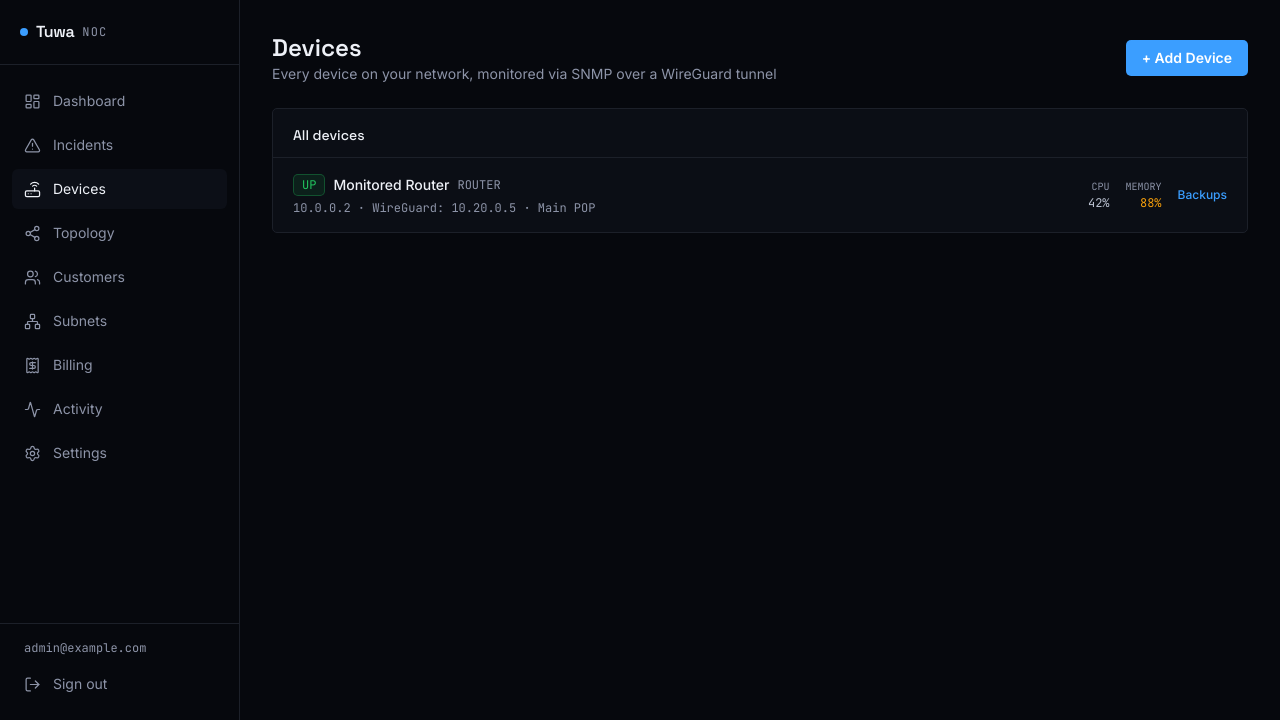
Test case: Devices › shows the real full content when a backup is viewed
The image size is (1280, 720).
Check: the text "Monitored Router" is shown, box [333, 175, 449, 195]
Click the button "Backups": [1202, 195] box [1178, 187, 1227, 203]
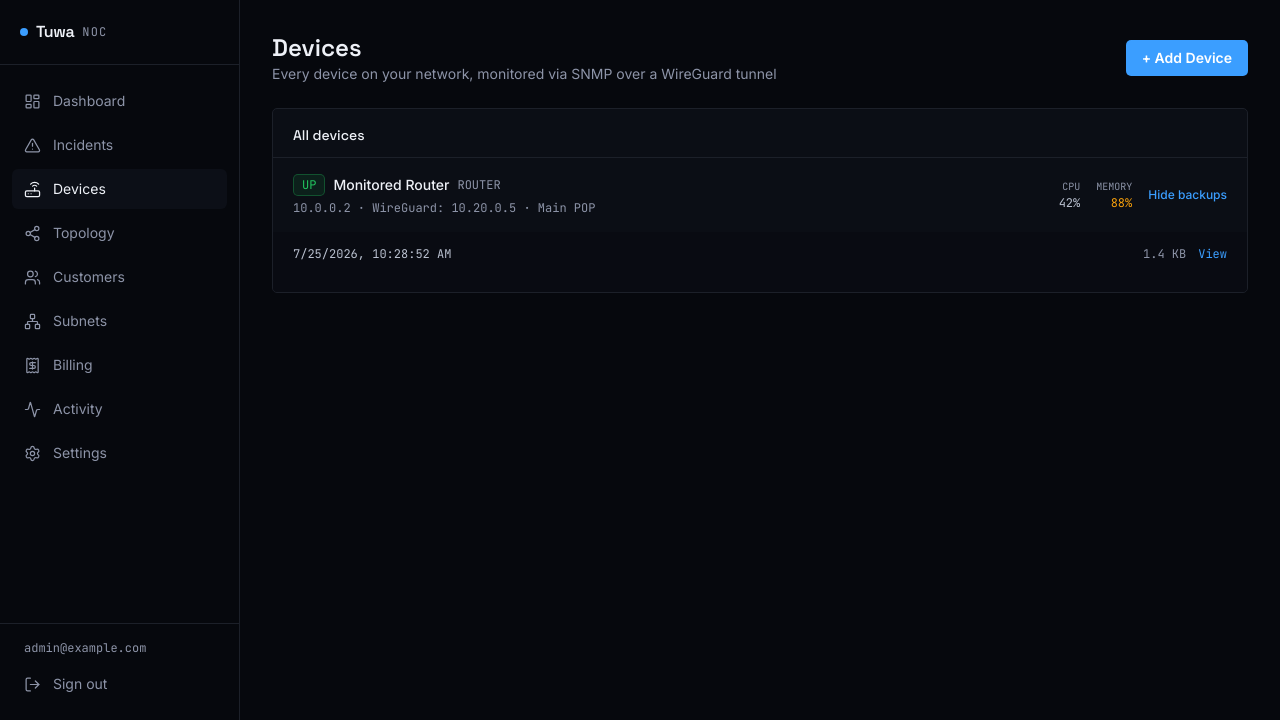
Check: the text "1.4 KB" is shown, box [1143, 246, 1186, 262]
Click the button "View": [1213, 254] box [1198, 246, 1227, 262]
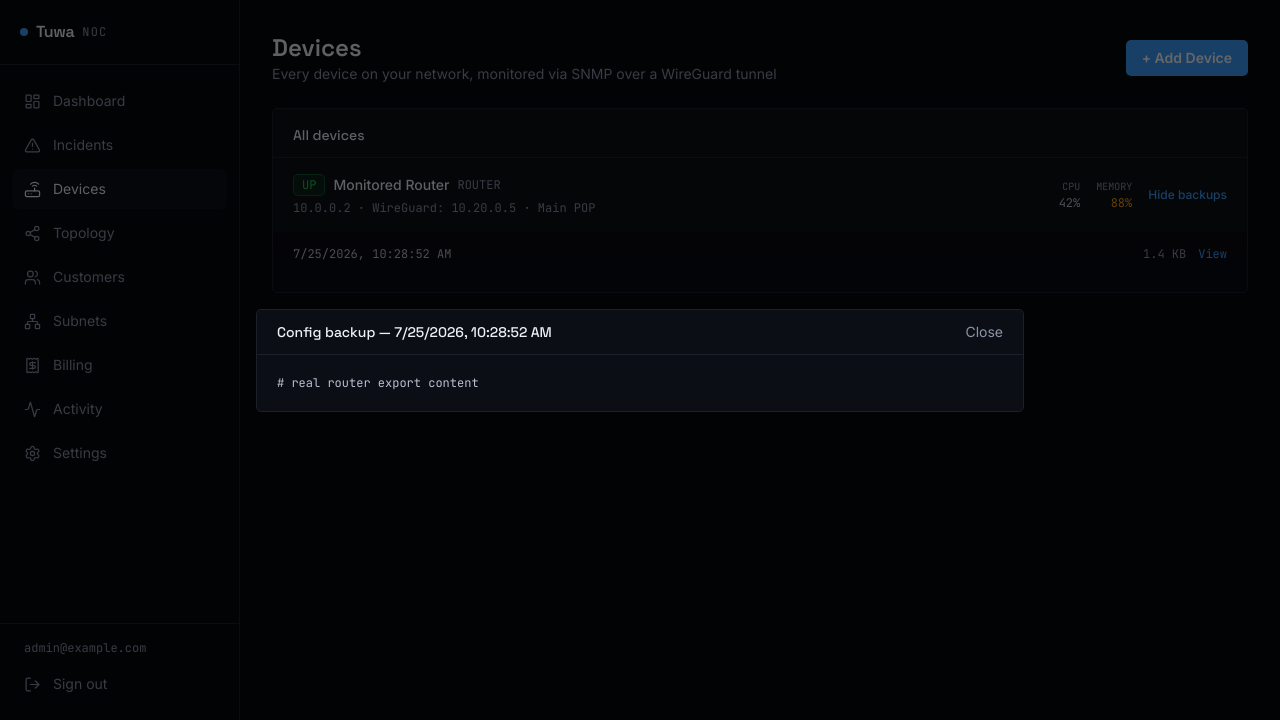
Check: the text "# real router export content" is shown, box [277, 374, 479, 390]
